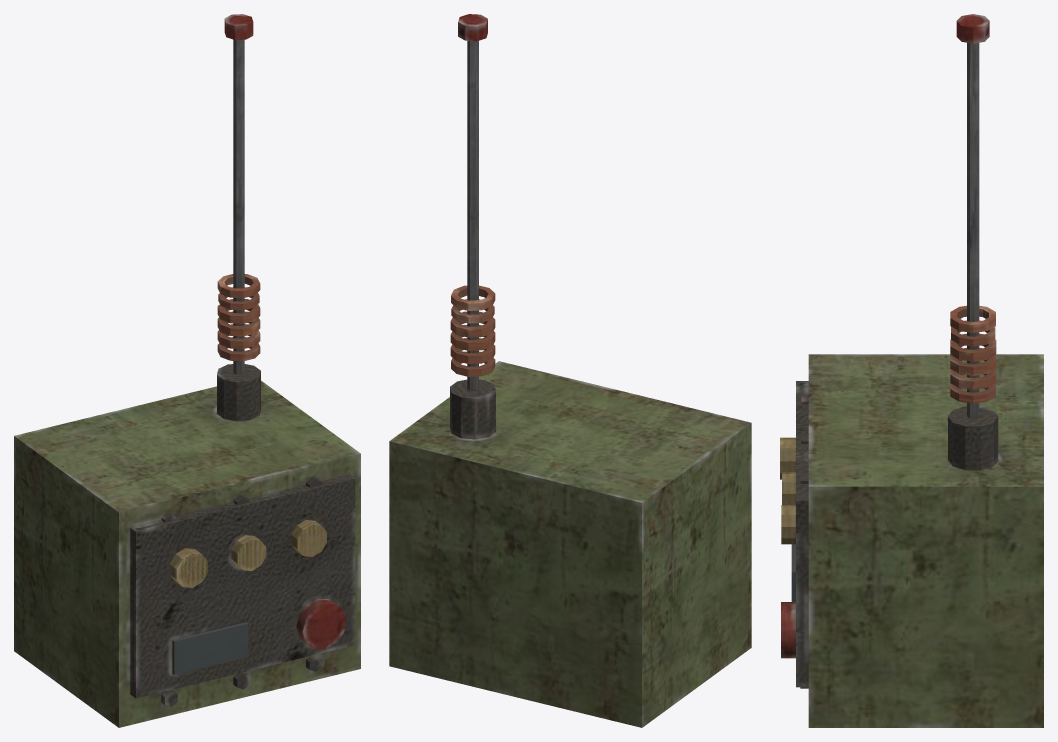
Rendered from feWirelessTx.glb.
The picture shows the model from 3 angles, left to right: view 1: azimuth 30°, elevation 25°; view 2: azimuth 150°, elevation 25°; view 3: azimuth 270°, elevation 25°; orthographic projection. The views are drawn at different scales.
Visible parts, largest first — view 1: feWirelessTx_Base; view 2: feWirelessTx_Base; view 3: feWirelessTx_Base.
Part boxes in pixels (x1=…): feWirelessTx_Base: x1=14, y1=14, x2=360, y2=727; feWirelessTx_Base: x1=389, y1=14, x2=751, y2=727; feWirelessTx_Base: x1=780, y1=14, x2=1043, y2=727.
Bounding box in the file's own units: 0.4012 × 0.9618 × 0.338.
Materials: 1 (1 with a texture image).
